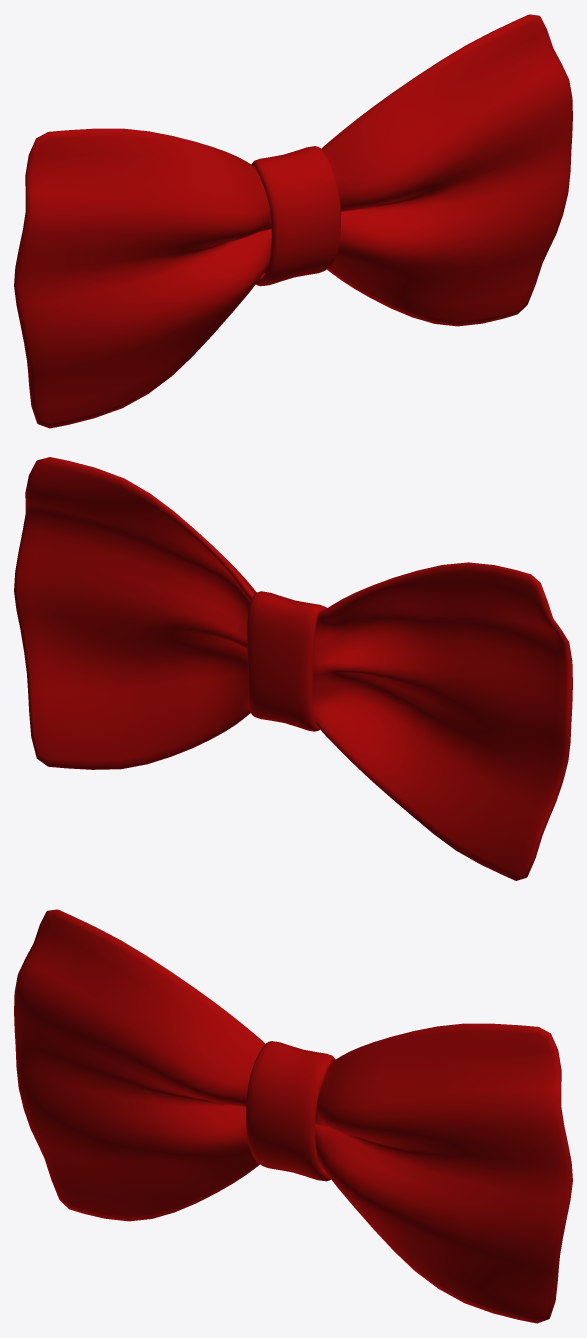
File: bow_tie.fbx
3 renders of one model, top to bottom at view 1: azimuth 30°, elevation 25°; view 2: azimuth 150°, elevation 25°; view 3: azimuth 330°, elevation 25°, orthographic.
Parts seen in each view (by area): view 1: Bow_tie_A_rig_may_r0:Bow_tie_2_Bow_tie_A_rig_may_r0:blacknec, Bow_tie_A_rig_may_r0:Bow_tie_1_Bow_tie_A_rig_may_r0:blacknec; view 2: Bow_tie_A_rig_may_r0:Bow_tie_2_Bow_tie_A_rig_may_r0:blacknec, Bow_tie_A_rig_may_r0:Bow_tie_1_Bow_tie_A_rig_may_r0:blacknec; view 3: Bow_tie_A_rig_may_r0:Bow_tie_2_Bow_tie_A_rig_may_r0:blacknec, Bow_tie_A_rig_may_r0:Bow_tie_1_Bow_tie_A_rig_may_r0:blacknec.
Part boxes in pixels (box(x1,y1,x2,y2)): Bow_tie_A_rig_may_r0:Bow_tie_2_Bow_tie_A_rig_may_r0:blacknec: box(14, 14, 572, 428); Bow_tie_A_rig_may_r0:Bow_tie_1_Bow_tie_A_rig_may_r0:blacknec: box(251, 146, 340, 286); Bow_tie_A_rig_may_r0:Bow_tie_2_Bow_tie_A_rig_may_r0:blacknec: box(14, 457, 572, 880); Bow_tie_A_rig_may_r0:Bow_tie_1_Bow_tie_A_rig_may_r0:blacknec: box(247, 591, 326, 731); Bow_tie_A_rig_may_r0:Bow_tie_2_Bow_tie_A_rig_may_r0:blacknec: box(14, 909, 572, 1323); Bow_tie_A_rig_may_r0:Bow_tie_1_Bow_tie_A_rig_may_r0:blacknec: box(246, 1041, 335, 1181).
Bounding box in the file's own units: 1.81 × 0.9413 × 0.24.
